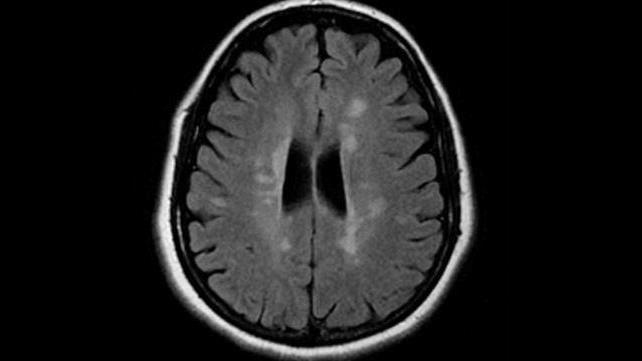Normal_Brain: (135, 20, 516, 360)
